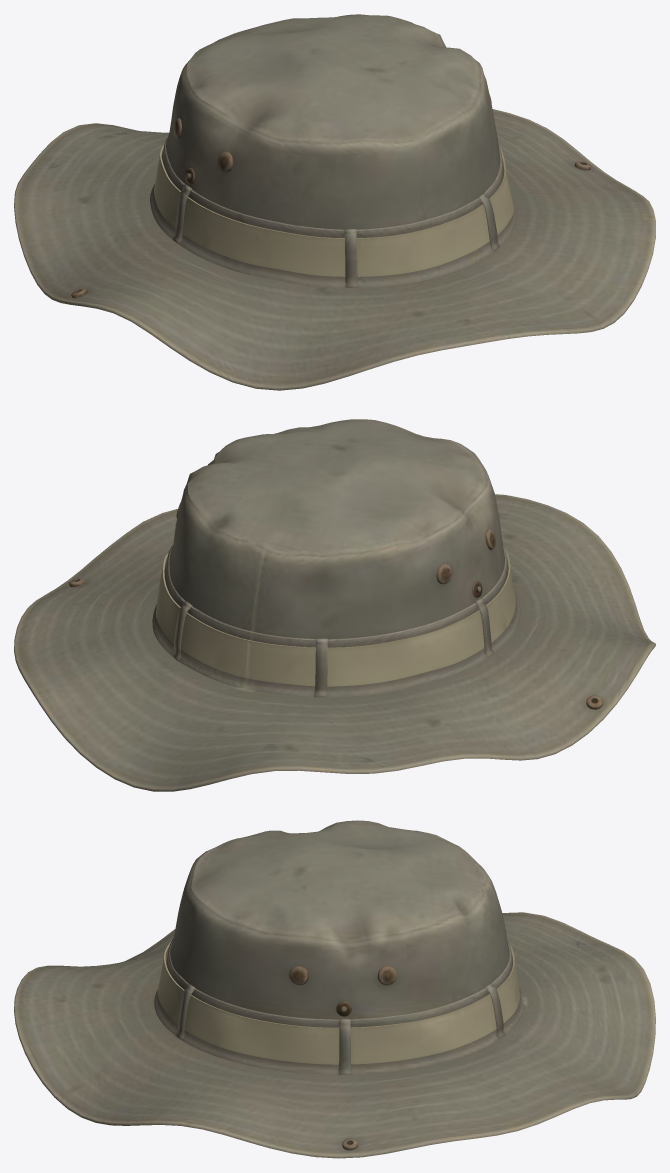
File: hat.glb
3 renders of one model, top to bottom at view 1: azimuth 30°, elevation 25°; view 2: azimuth 150°, elevation 25°; view 3: azimuth 270°, elevation 25°, orthographic. The views are drawn at different scales.
Visible parts, largest first — view 1: hat_body; view 2: hat_body; view 3: hat_body.
Boxes of the visible parts, box(x1,y1,x2,y2) form: hat_body: box(14, 14, 655, 390); hat_body: box(14, 419, 655, 791); hat_body: box(14, 820, 655, 1158).
Size of the model in its own units: 0.2404 by 0.0921 by 0.26.
Materials: 1 (1 with a texture image).
